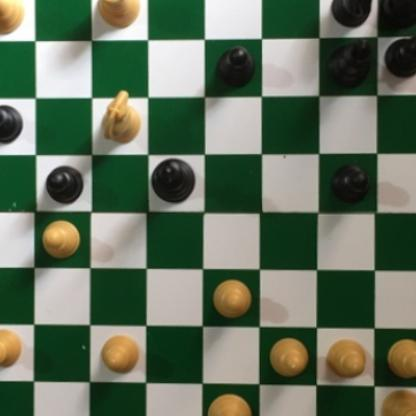black-bishop: (321, 34, 370, 88)
black-king: (149, 157, 198, 206)
black-knight: (330, 0, 376, 31)
black-pawn: (213, 45, 254, 89), (43, 163, 85, 205), (329, 163, 369, 205), (383, 33, 416, 78), (0, 103, 24, 145)
black-rook: (380, 0, 416, 32)
white-king: (205, 392, 253, 416)
white-knight: (97, 81, 141, 146)
white-pawn: (209, 278, 253, 321), (96, 332, 141, 374), (325, 338, 367, 381), (268, 337, 309, 377), (40, 220, 80, 260), (381, 337, 416, 382), (0, 321, 25, 370)
white-queen: (0, 0, 25, 34)
white-rook: (89, 0, 139, 32), (376, 385, 416, 416)
